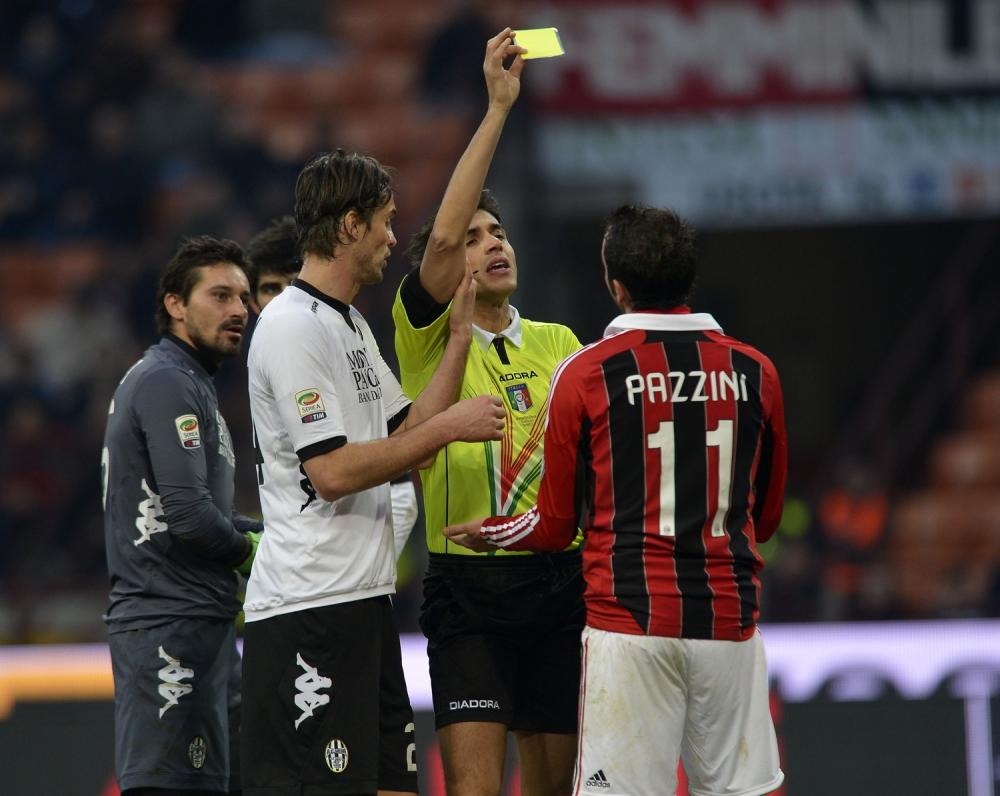yellow_card: (461, 12, 581, 123)
